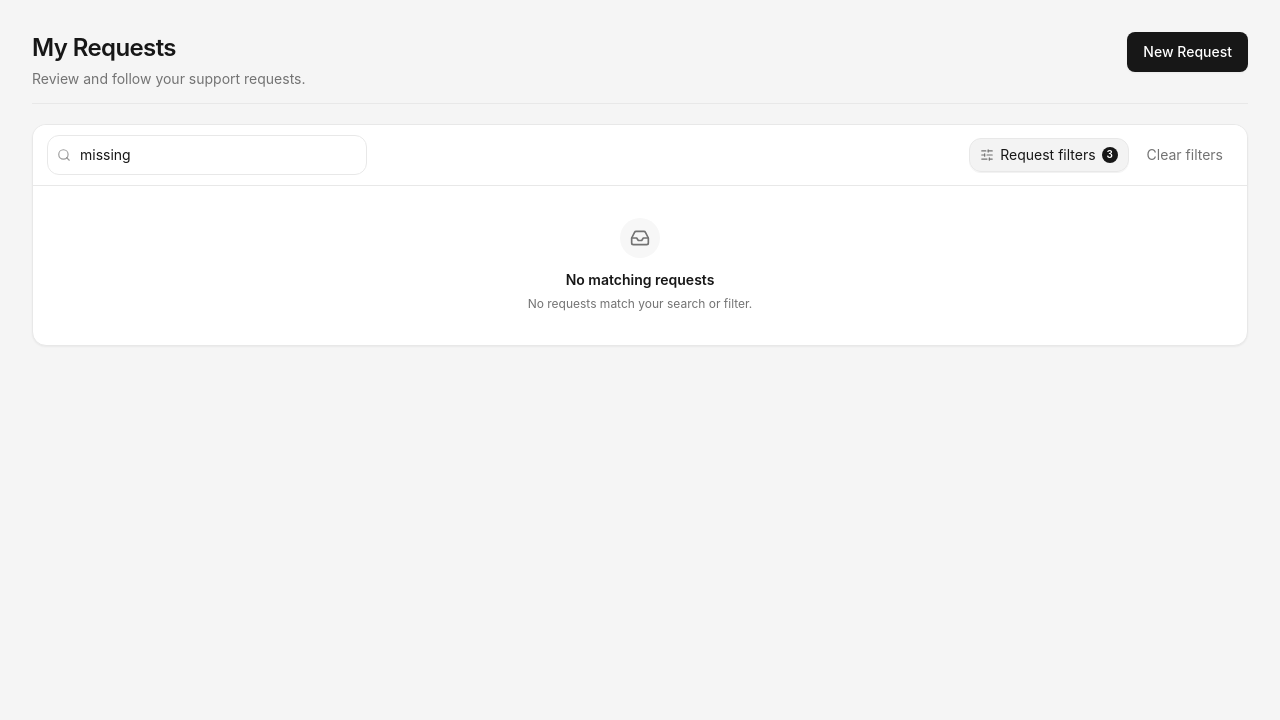
Scenario: portal pages › owns search + status/priority/category filters in the URL and renders no results
The image size is (1280, 720).
expect the search field showing "missing" is shown: met, box [47,135,367,175]
# filters live in the shared filter popover
Click the button "Request filters 3": {"x": 1049, "y": 155} [969,138,1129,172]
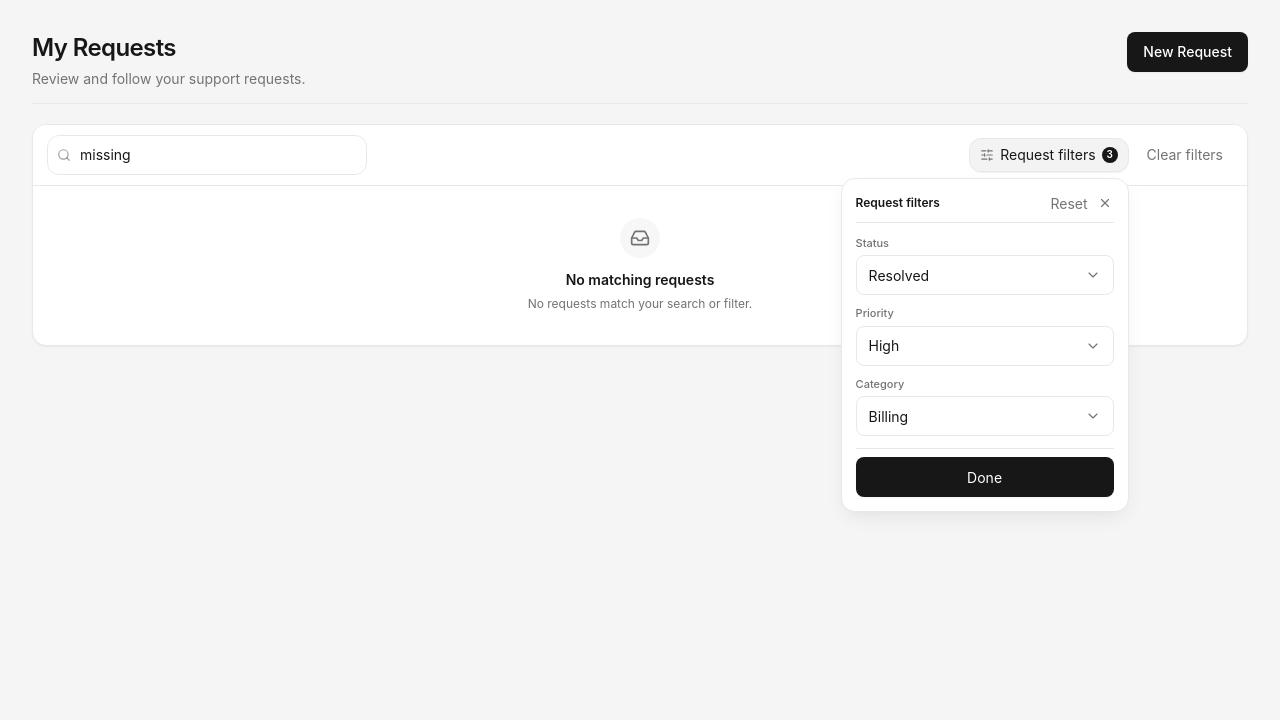
expect the dropdown named "Status" reads "Resolved": met, box [856,255,1114,295]
expect the dropdown named "Priority" reads "High": met, box [856,326,1114,366]
expect the dropdown named "Category" reads "Billing": met, box [856,396,1114,436]
